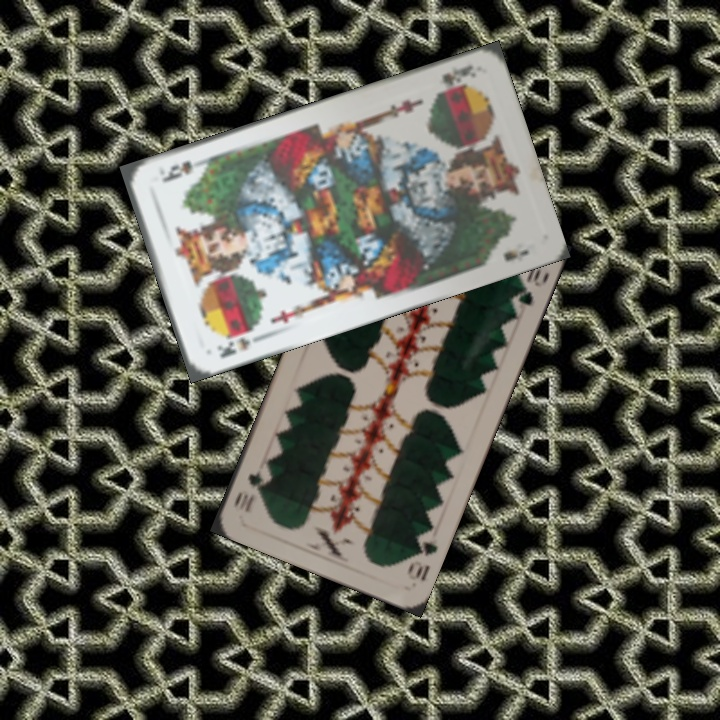G10: (403, 527, 440, 584)
SK: (213, 325, 265, 361), (432, 60, 479, 97)
